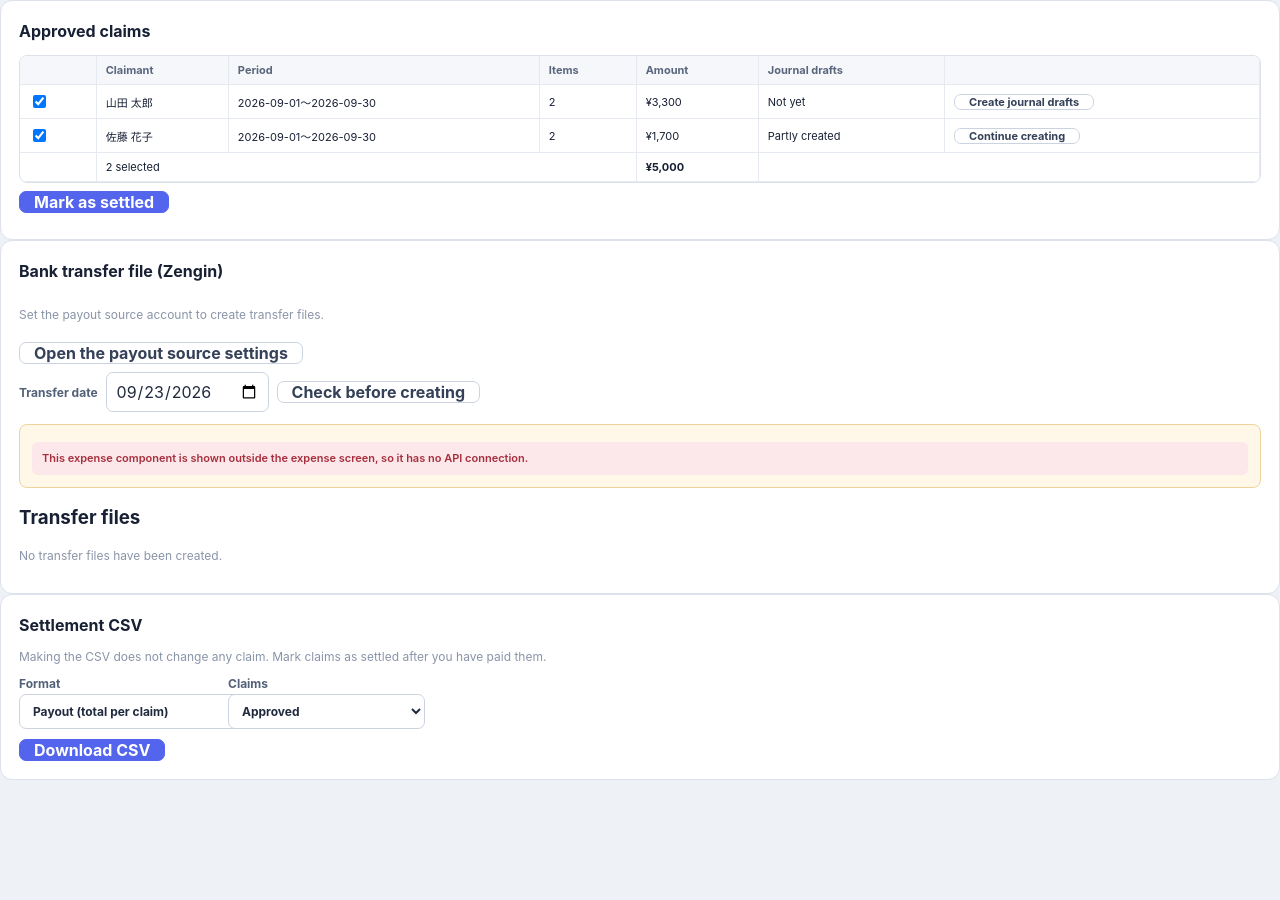
SettleTab › 正常: 承認済みの合計を出し、選択を外すと合計が変わる
expect the text "¥5,000" is shown: met, box [636, 152, 758, 182]
Click the checkbox named "Select 佐藤 花子" at coordinates (40, 136), box [33, 129, 46, 142]
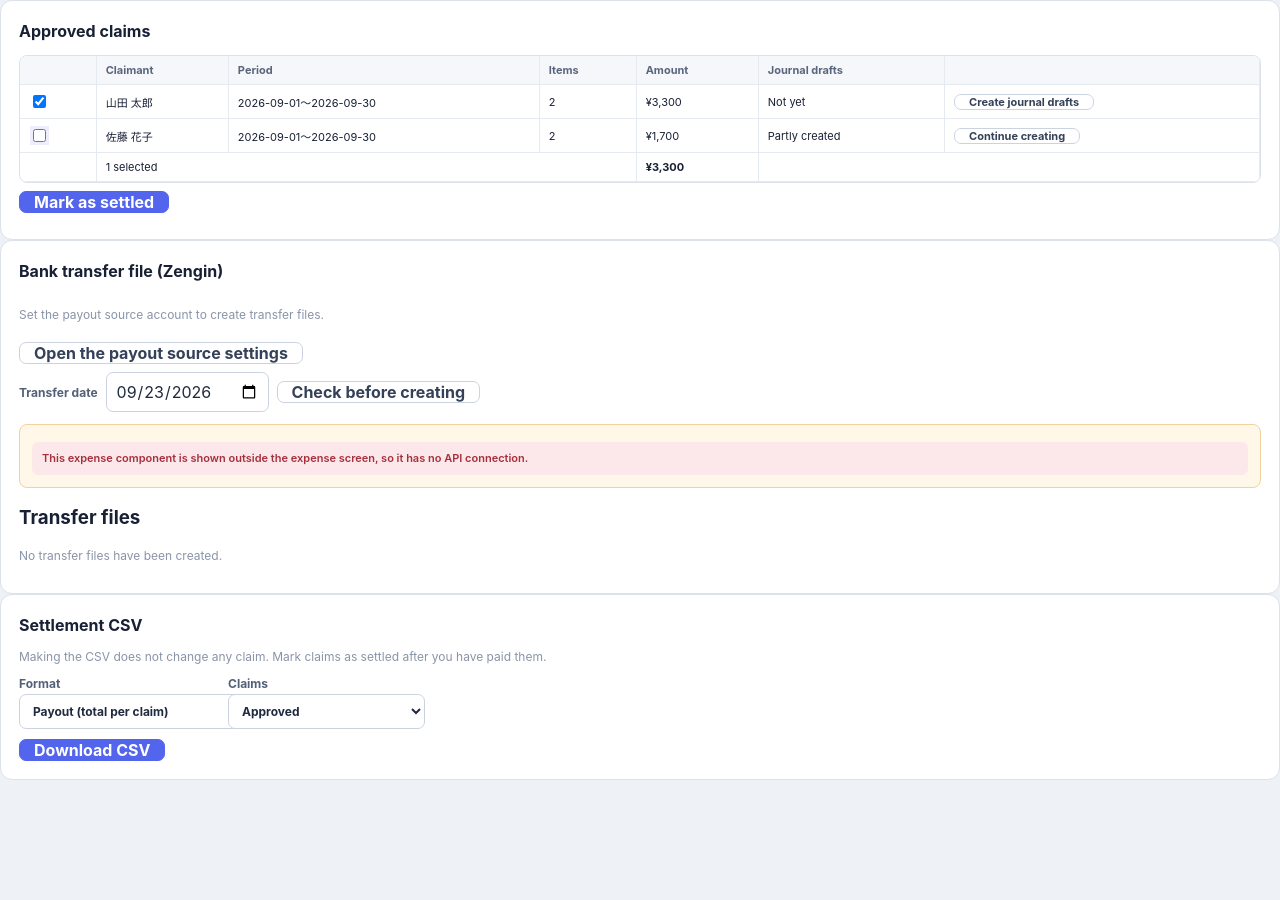
expect the text "1 selected" is shown: met, box [96, 152, 636, 182]
